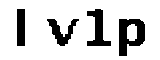1: (82, 8, 113, 50)
l: (11, 7, 30, 51)
p: (113, 14, 145, 60)
v: (40, 15, 79, 49)
